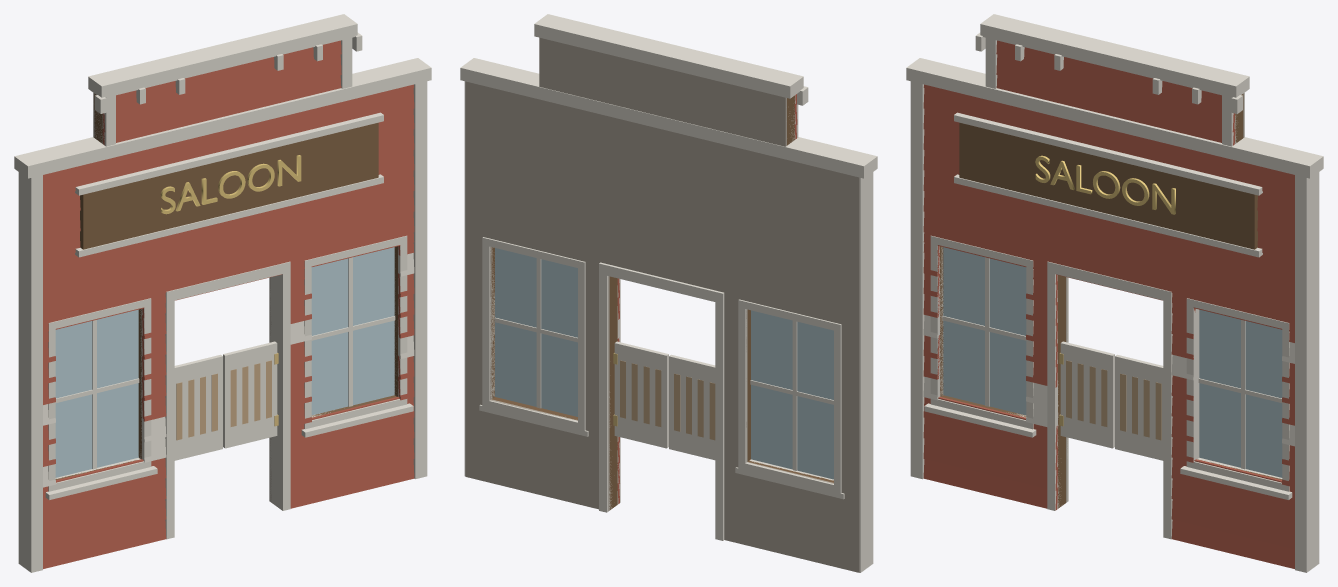
The model's file is SM_Facade_Saloon.glb.
The picture shows the model from 3 angles, left to right: view 1: azimuth 30°, elevation 25°; view 2: azimuth 150°, elevation 25°; view 3: azimuth 330°, elevation 25°; orthographic projection.
Visible parts, largest first — view 1: SM_Facade_Saloon; view 2: SM_Facade_Saloon; view 3: SM_Facade_Saloon.
Part boxes in pixels (left/top/right/bottom): SM_Facade_Saloon: left=14, top=14, right=431, bottom=572; SM_Facade_Saloon: left=460, top=14, right=877, bottom=572; SM_Facade_Saloon: left=906, top=14, right=1323, bottom=572.
Size of the model in its own units: 4.1 by 4.56 by 0.305.
